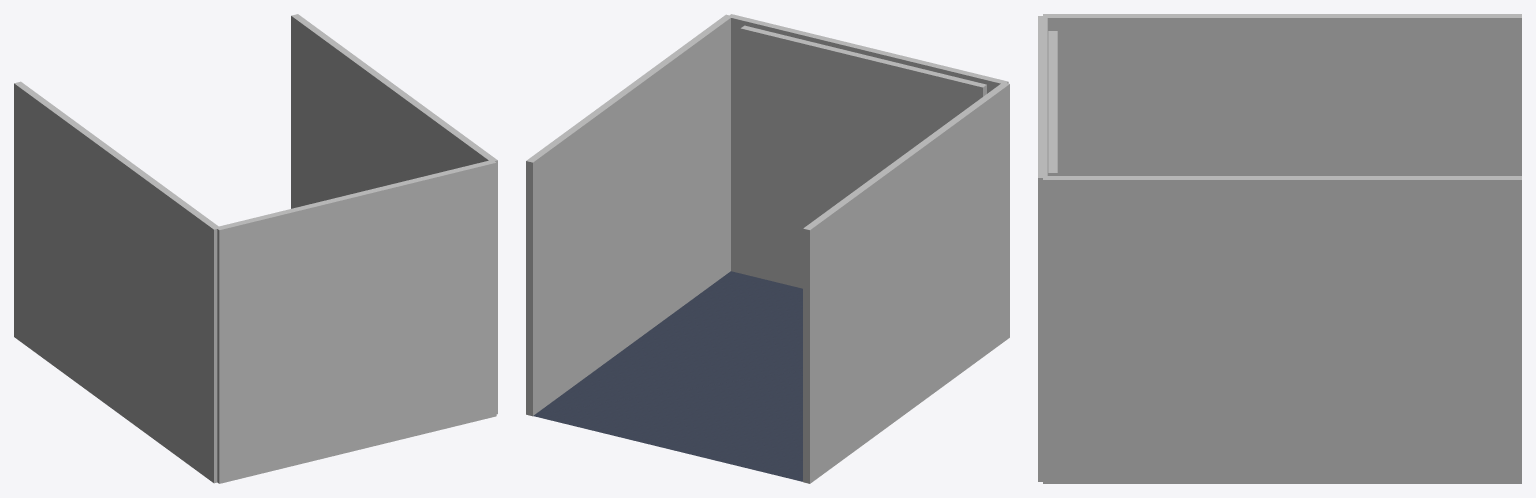
Rendered from walls.fbx.
3 renders of one model, left to right at view 1: azimuth 30°, elevation 25°; view 2: azimuth 150°, elevation 25°; view 3: azimuth 270°, elevation 25°, orthographic. The views are drawn at different scales.
Visible parts, largest first — view 1: wall1, wall2, wall3; view 2: wall2, wall3, ground, screen1, wall1; view 3: wall3, wall2, wall1, screen1.
Boxes of the visible parts, box(x1,y1,x2,y2) form: wall1: box(216, 160, 496, 483); wall2: box(14, 81, 219, 483); wall3: box(291, 14, 497, 414); wall2: box(803, 82, 1009, 483); wall3: box(526, 14, 730, 416); ground: box(533, 271, 802, 481); screen1: box(740, 25, 986, 189); wall1: box(728, 14, 1008, 288); wall3: box(1043, 176, 1521, 483); wall2: box(1043, 14, 1521, 175); wall1: box(1038, 16, 1047, 481); screen1: box(1048, 31, 1057, 175).
Size of the model in its own units: 410 by 350 by 505.
